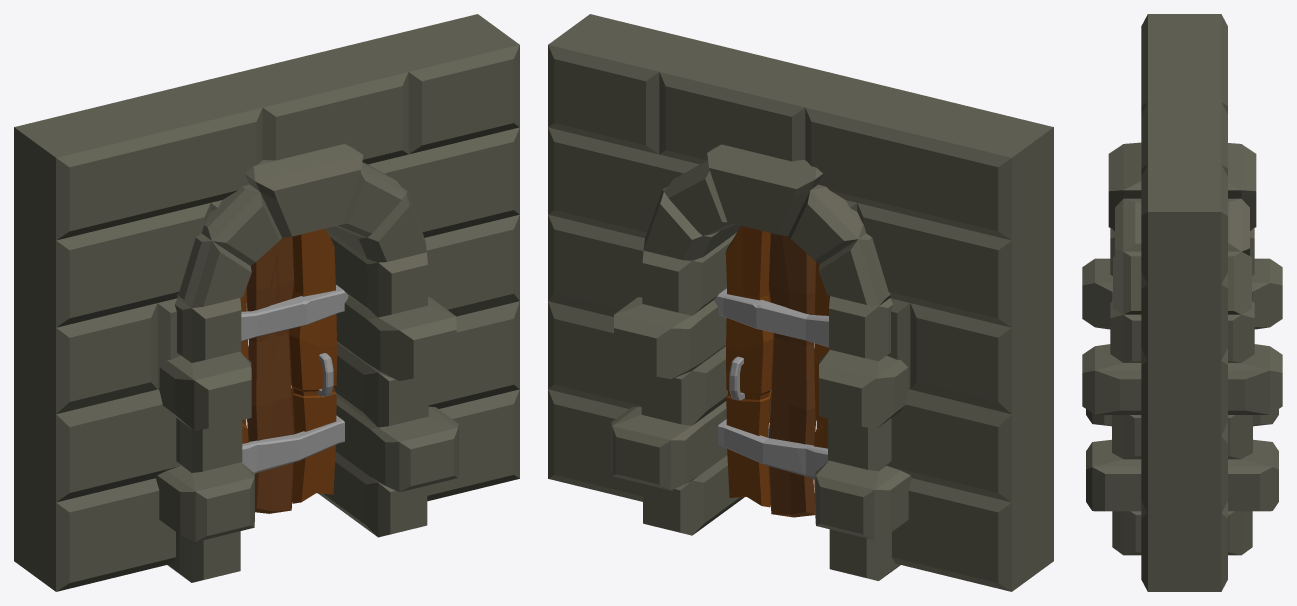
Rendered from WallStoneDoor.fbx.
3 renders of one model, left to right at view 1: azimuth 30°, elevation 25°; view 2: azimuth 150°, elevation 25°; view 3: azimuth 270°, elevation 25°, orthographic. The views are drawn at different scales.
Parts seen in each view (by area): view 1: StoneDungeonDoor, WallDoorFrame.001, WallDoorDoorPanels2.001, WallDoorDoorPanels.001, WallDoorDoorMetal.001; view 2: StoneDungeonDoor, WallDoorFrame.001, WallDoorDoorPanels2.001, WallDoorDoorPanels.001, WallDoorDoorMetal.001; view 3: StoneDungeonDoor, WallDoorFrame.001.
Boxes of the visible parts, x1,y1,x2,y2 form: StoneDungeonDoor: (14, 14, 519, 591); WallDoorFrame.001: (156, 143, 458, 582); WallDoorDoorPanels2.001: (240, 228, 336, 503); WallDoorDoorPanels.001: (246, 236, 294, 513); WallDoorDoorMetal.001: (241, 285, 348, 473); StoneDungeonDoor: (548, 14, 1053, 591); WallDoorFrame.001: (611, 144, 911, 580); WallDoorDoorPanels2.001: (725, 226, 829, 507); WallDoorDoorPanels.001: (768, 233, 816, 517); WallDoorDoorMetal.001: (714, 288, 828, 479); StoneDungeonDoor: (1141, 14, 1227, 591); WallDoorFrame.001: (1082, 142, 1282, 555).
Bounding box in the file's own units: 444 × 407 × 190.
